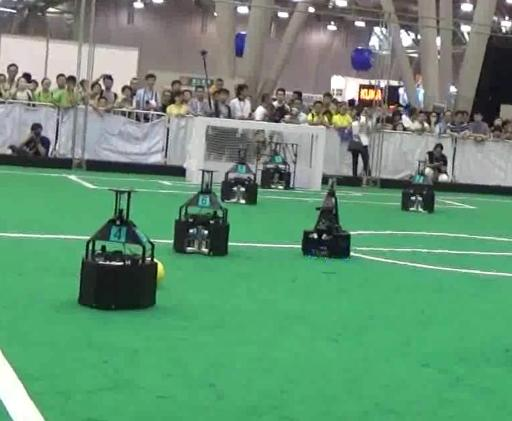robot: (76, 183, 161, 311), (170, 166, 232, 258), (299, 176, 352, 260), (218, 146, 260, 206), (399, 156, 438, 215), (260, 141, 292, 190)
